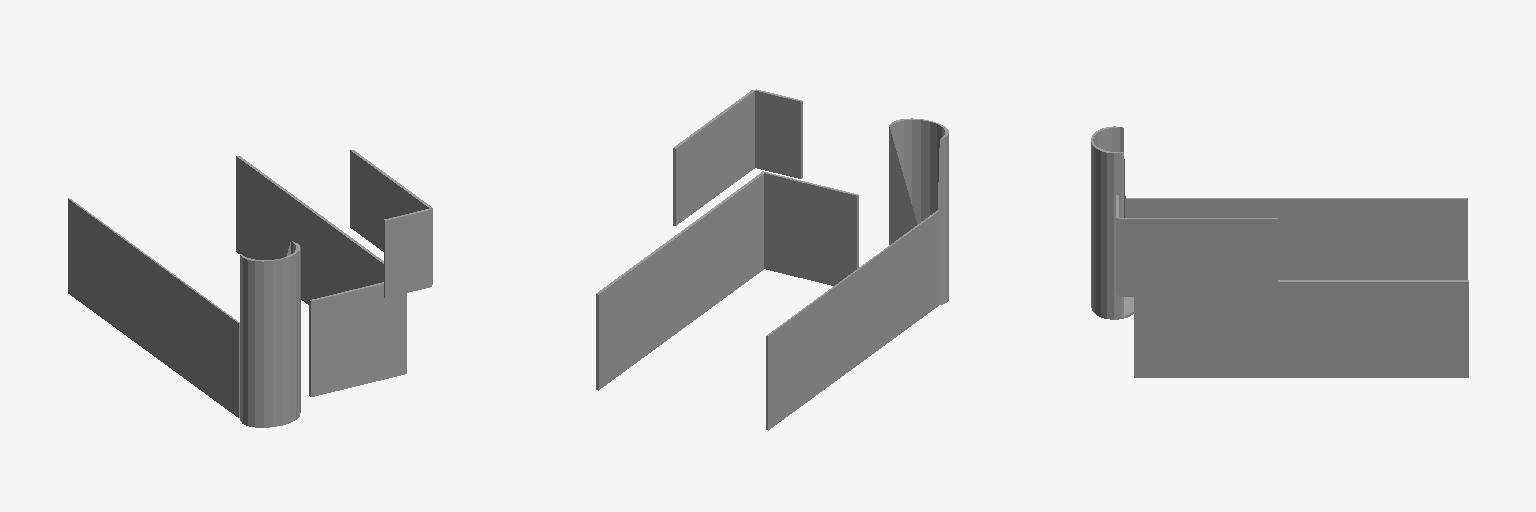
3 renders of one model, left to right at view 1: azimuth 30°, elevation 25°; view 2: azimuth 150°, elevation 25°; view 3: azimuth 270°, elevation 25°, orthographic.
Visible parts, largest first — view 1: polySurface54; view 2: polySurface54; view 3: polySurface54.
Boxes of the visible parts, x1=… form: polySurface54: x1=68, y1=150, x2=432, y2=427; polySurface54: x1=596, y1=89, x2=948, y2=430; polySurface54: x1=1091, y1=126, x2=1468, y2=377.
Bounding box in the file's own units: 37.9 × 31.52 × 64.51.
Materials: 1 (1 with a texture image).